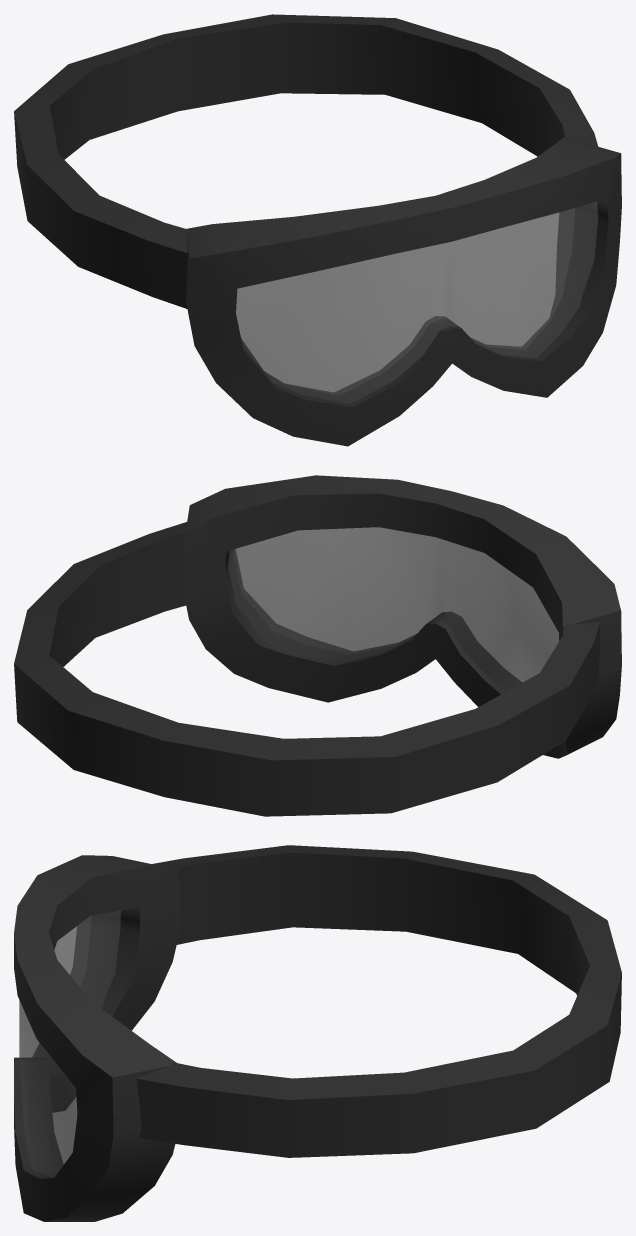
The model's file is Eyewear_13.fbx.
3 renders of one model, top to bottom at view 1: azimuth 30°, elevation 25°; view 2: azimuth 150°, elevation 25°; view 3: azimuth 270°, elevation 25°, orthographic. The views are drawn at different scales.
Parts seen in each view (by area): view 1: Eyewear_13; view 2: Eyewear_13; view 3: Eyewear_13.
Boxes of the visible parts, <box> form: Eyewear_13: <box>14,14,621,446</box>; Eyewear_13: <box>14,475,621,816</box>; Eyewear_13: <box>14,845,621,1221</box>.
Bounding box in the file's own units: 76 × 31.85 × 76.57.
